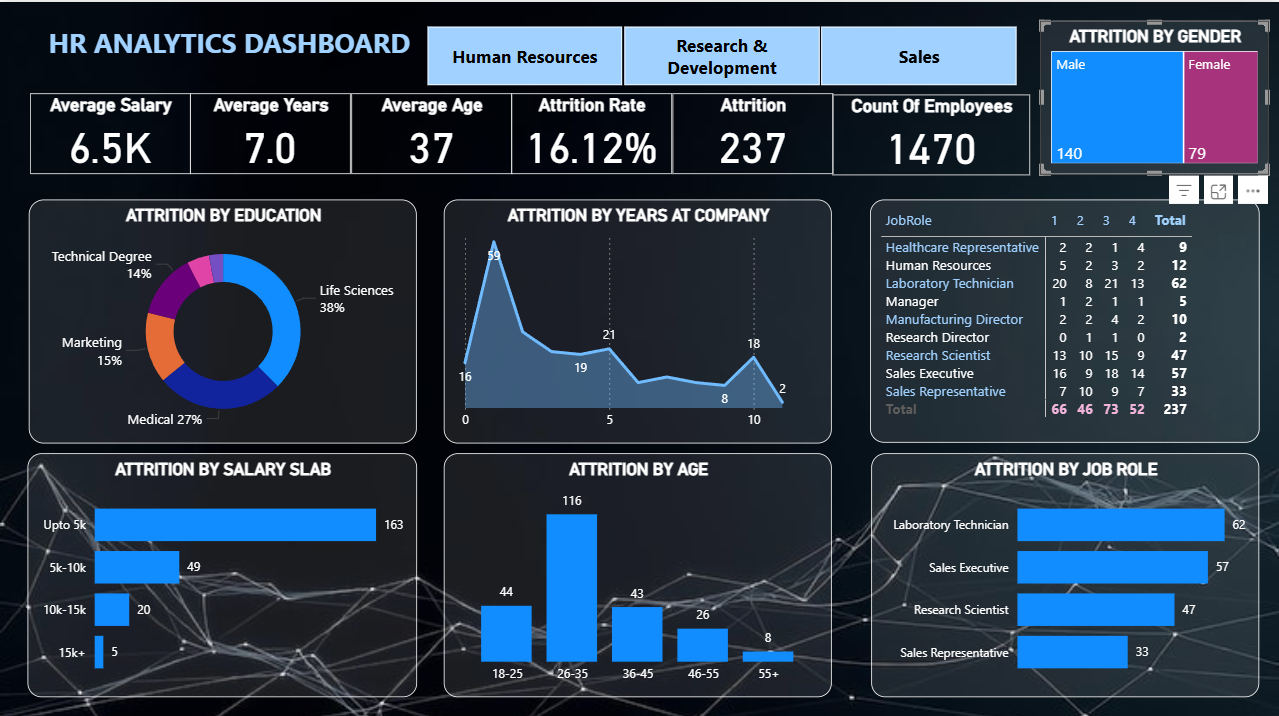

Layout of this report page (visuals, bound fields, positions):
{"tool":"powerbi","page":{"name":"Page 1","canvas":[1280,720],"ordinal":0},"visuals":[{"type":"card","title":"Count Of Employees","fields":{"Values":["CountNonNull(HR_Analytics.EmpID)"]},"box":[832.9,91.9,186.6,81],"z":0},{"type":"card","title":"Attrition","fields":{"Values":["Sum(HR_Analytics.Attition count)"]},"box":[672.1,91.4,160.5,81],"z":1000},{"type":"card","title":"Average Age","fields":{"Values":["Avg(HR_Analytics.Age)"]},"box":[351,91.4,160.5,81],"z":2000},{"type":"card","title":"Attrition Rate","fields":{"Values":["HR_Analytics.Attritionrate"]},"box":[511.6,91.4,160.5,81],"z":3000},{"type":"card","title":"Average Salary","fields":{"Values":["Avg(HR_Analytics.MonthlyIncome)"]},"box":[29.9,91.4,160.5,81],"z":4000},{"type":"card","title":"Average Years","fields":{"Values":["Avg(HR_Analytics.YearsAtCompany)"]},"box":[190.5,91.4,160.5,81],"z":5000},{"type":"donutChart","title":"ATTRITION BY EDUCATION","fields":{"Category":["HR_Analytics.EducationField"],"Y":["Sum(HR_Analytics.Attition count)"]},"box":[28.8,194.9,388.3,244.3],"z":6000},{"type":"columnChart","title":"ATTRITION BY AGE","fields":{"Category":["HR_Analytics.AgeGroup","HR_Analytics.EducationField"],"Y":["Sum(HR_Analytics.Attition count)"]},"box":[443.2,451.5,388.3,244.3],"z":7000},{"type":"pivotTable","fields":{"Rows":["HR_Analytics.JobRole"],"Columns":["HR_Analytics.JobSatisfaction"],"Values":["Sum(HR_Analytics.Attition count)"]},"box":[871.4,194.9,389.7,242.9],"z":8000},{"type":"barChart","title":"ATTRITION BY SALARY SLAB","fields":{"Category":["HR_Analytics.SalarySlab"],"Y":["Sum(HR_Analytics.Attition count)"]},"box":[27.4,451.5,389.7,244.3],"z":9000},{"type":"barChart","title":"ATTRITION BY JOB ROLE","fields":{"Category":["HR_Analytics.JobRole"],"Y":["Sum(HR_Analytics.Attition count)"]},"box":[871.4,451.5,388.3,244.3],"z":10000},{"type":"areaChart","title":"ATTRITION BY YEARS AT COMPANY","fields":{"Category":["HR_Analytics.YearsAtCompany"],"Y":["Sum(HR_Analytics.Attition count)"]},"box":[444.6,194.9,388.3,244.3],"z":11000},{"type":"treemap","title":"ATTRITION BY GENDER","fields":{"Group":["HR_Analytics.Gender"],"Values":["Sum(HR_Analytics.Attition count)"]},"box":[1030.5,19.2,229.2,153.7],"z":12000},{"type":"slicer","fields":{"Values":["HR_Analytics.Department"]},"box":[400.7,17.8,639.5,72.7],"z":13000},{"type":"textbox","box":[27.4,17.8,403.4,89.2],"z":14000}]}

Visuals, with their boxes in screenshot pixels (x1, y1, x2, y2), scaled from the page's 1280x720 canvas onto the 1279x716 screenshot:
"Count Of Employees" card: 832,91,1019,172
"Attrition" card: 672,91,832,171
"Average Age" card: 351,91,511,171
"Attrition Rate" card: 511,91,672,171
"Average Salary" card: 30,91,190,171
"Average Years" card: 190,91,351,171
"ATTRITION BY EDUCATION" donutChart: 29,194,417,437
"ATTRITION BY AGE" columnChart: 443,449,831,692
pivotTable - HR_Analytics.JobRole x HR_Analytics.JobSatisfaction: 871,194,1260,435
"ATTRITION BY SALARY SLAB" barChart: 27,449,417,692
"ATTRITION BY JOB ROLE" barChart: 871,449,1259,692
"ATTRITION BY YEARS AT COMPANY" areaChart: 444,194,832,437
"ATTRITION BY GENDER" treemap: 1030,19,1259,172
slicer - HR_Analytics.Department: 400,18,1039,90
textbox: 27,18,430,106
